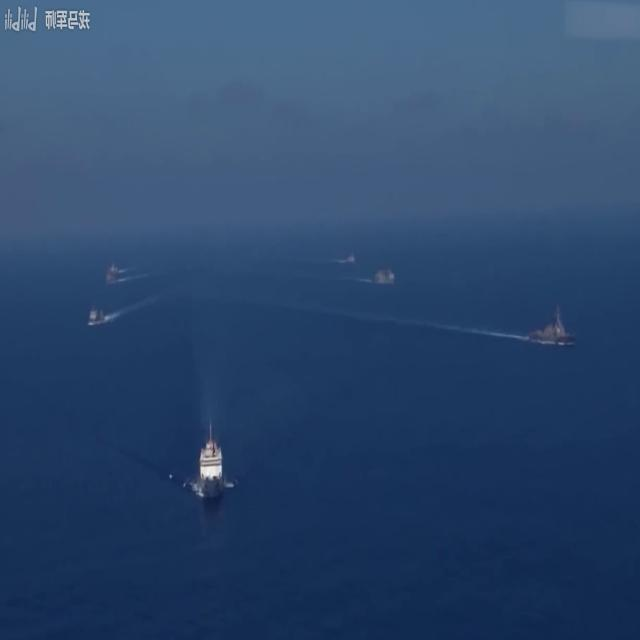navalvessels: (201, 417, 225, 494), (532, 309, 572, 347), (103, 256, 120, 286), (87, 306, 108, 326), (375, 266, 393, 288), (342, 248, 354, 268)
